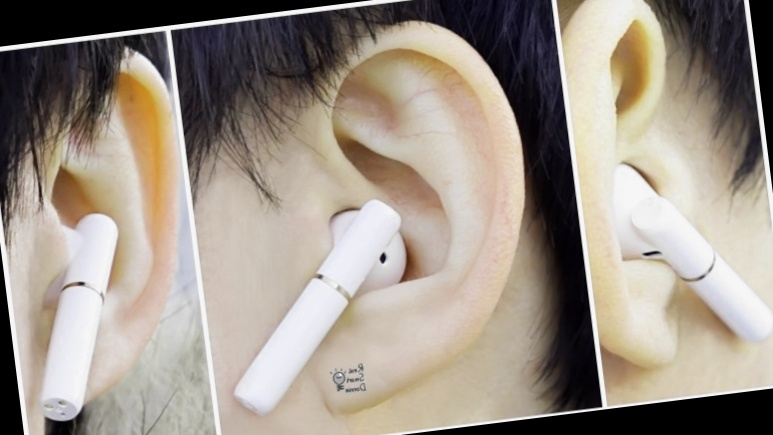earphone: (186, 6, 555, 429), (0, 41, 209, 426)
